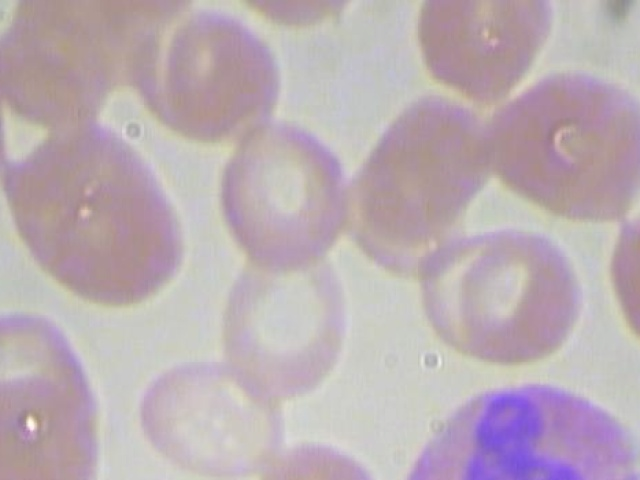RBC: (0, 112, 191, 316), (473, 63, 640, 237), (208, 229, 357, 409), (204, 117, 354, 272), (138, 0, 290, 146), (125, 346, 288, 480), (451, 223, 588, 368), (406, 0, 562, 106), (238, 429, 403, 480), (600, 200, 640, 359), (225, 0, 376, 34), (0, 55, 9, 208)
WBC: (379, 379, 640, 480)
